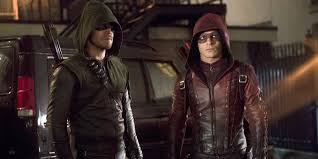Caution: (49, 1, 266, 159)
